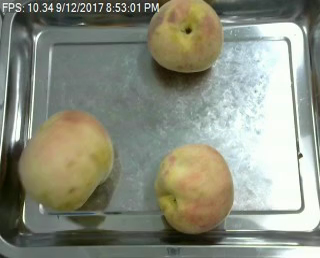Peach: (20, 108, 114, 211), (155, 142, 234, 234), (147, 0, 224, 73)
